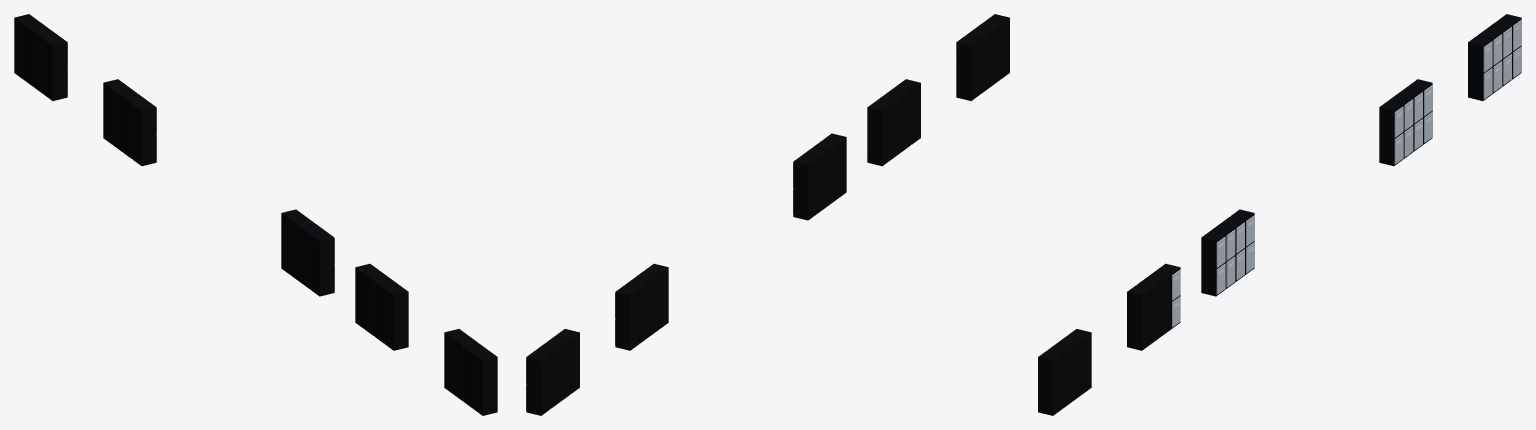
Rendered from tt_gallery_lockers_a.glb.
3 renders of one model, left to right at view 1: azimuth 30°, elevation 25°; view 2: azimuth 150°, elevation 25°; view 3: azimuth 330°, elevation 25°, orthographic.
Visible parts, largest first — view 1: Locker_Carcass; view 2: Locker_Carcass; view 3: Locker_Carcass, Locker_Face.
Boxes of the visible parts, left/top/right/bottom form: Locker_Carcass: left=14, top=14, right=497, bottom=415; Locker_Carcass: left=526, top=14, right=1009, bottom=415; Locker_Carcass: left=1038, top=14, right=1521, bottom=415; Locker_Face: left=1172, top=20, right=1521, bottom=327.
Size of what is drawn, in the model's own units: 0.61 by 2.06 by 31.6.
Materials: 2 (2 with a texture image).
